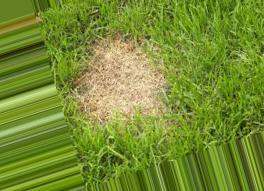patch: (82, 78, 134, 112), (95, 44, 144, 79), (135, 78, 158, 112)
